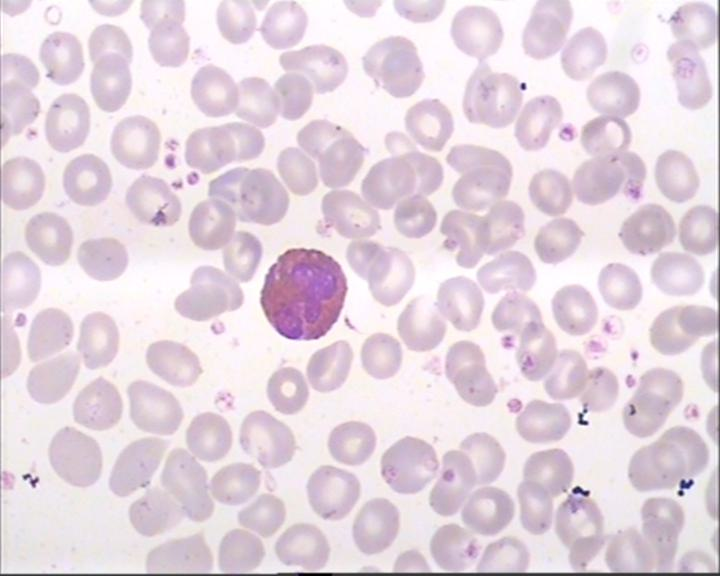eosi: (257, 248, 347, 344)
